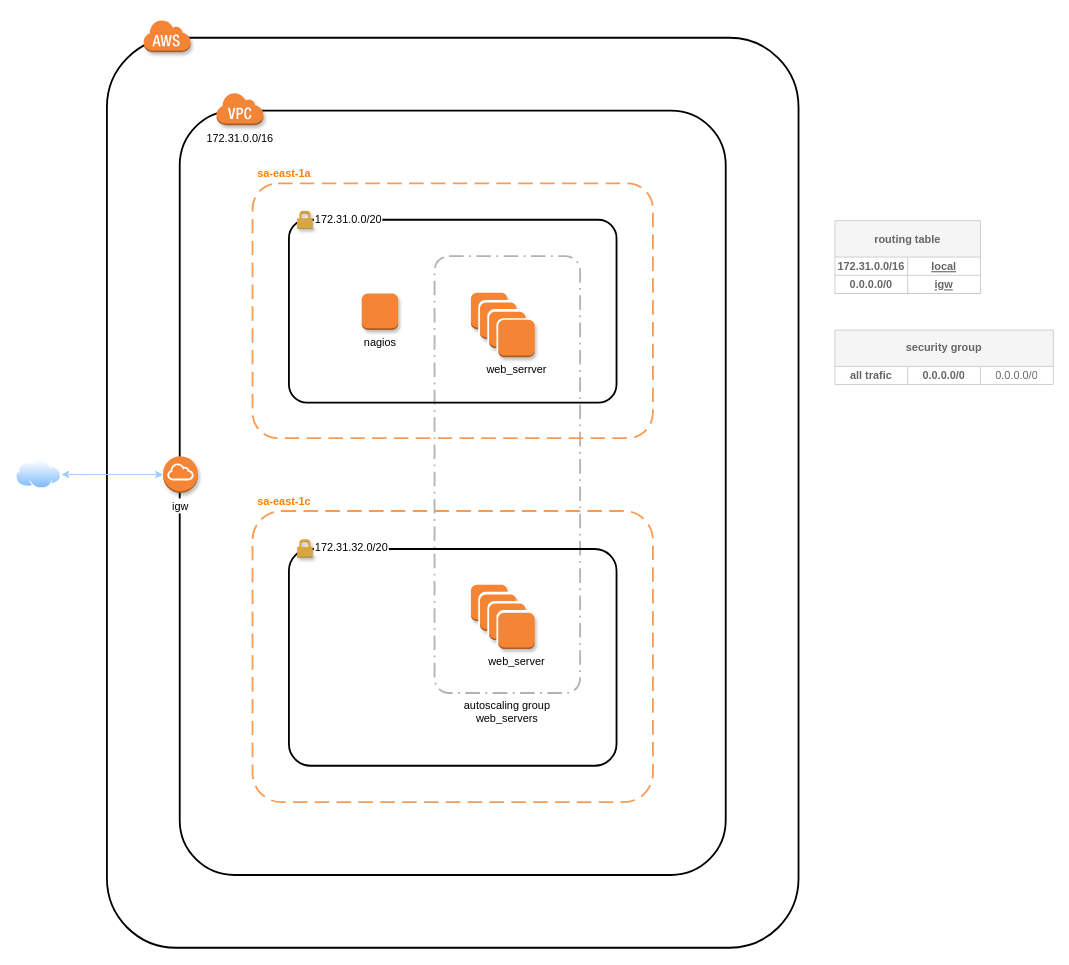
This 1069x965 diagram has some shape labels left out. The centre of each missing label's shape, as x and y in pixels:
"Internet" belongs at point (38, 474).
"sa-east-1" belongs at point (167, 37).
